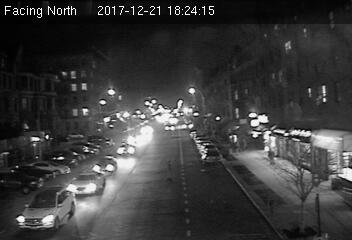car: (16, 186, 76, 231), (69, 172, 106, 194), (93, 156, 118, 175), (115, 141, 138, 156), (163, 123, 176, 132)
